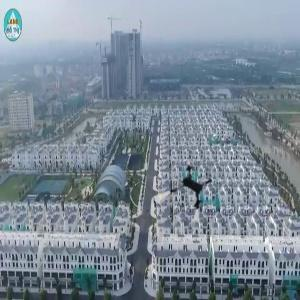drone: (154, 162, 218, 226)
